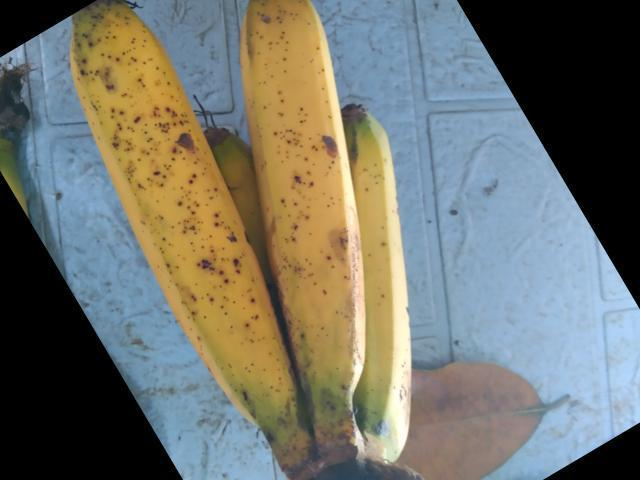ripe: (73, 15, 321, 479), (223, 0, 390, 435)
